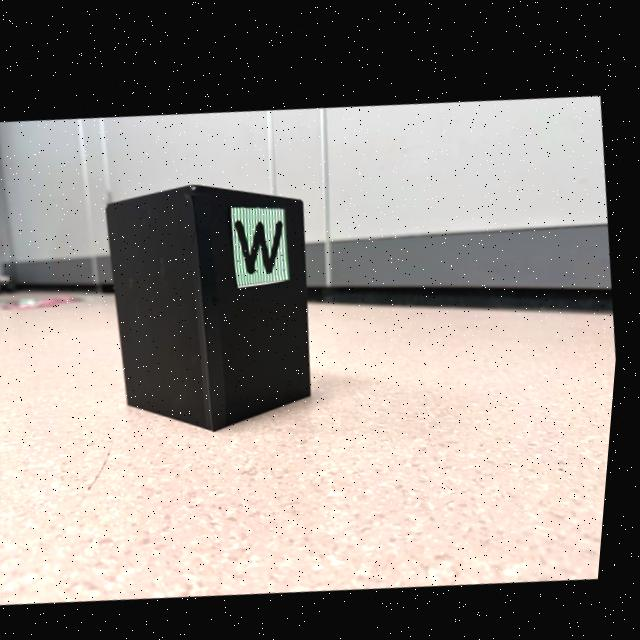W: (238, 215, 285, 269)
